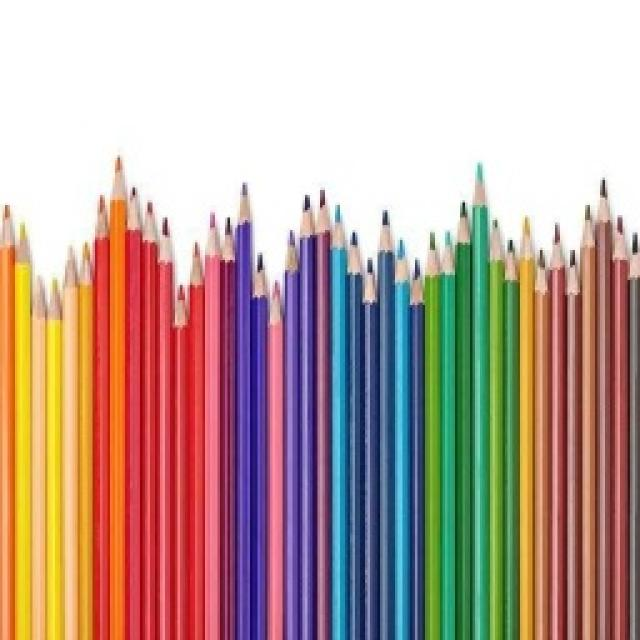pencil: (0, 148, 638, 638)
